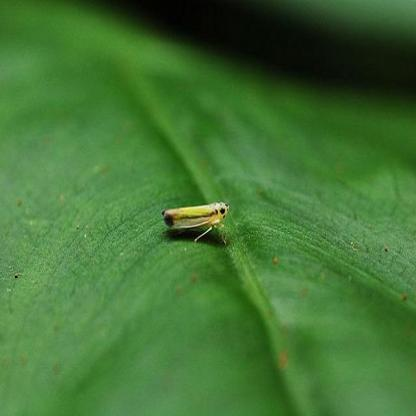green-leafhopper: (158, 203, 230, 241)
